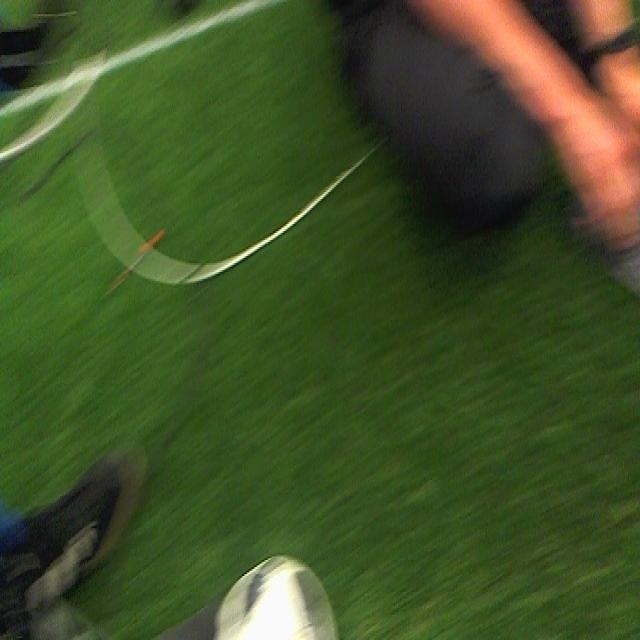ball: (212, 551, 342, 640)
